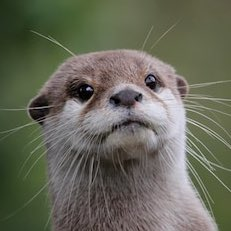otter: (22, 33, 205, 228)
